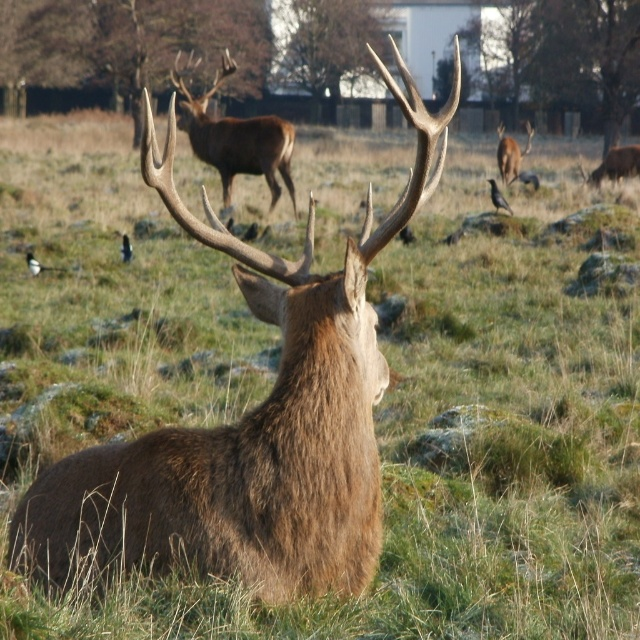Deer: (7, 32, 462, 610), (170, 48, 299, 220), (578, 143, 640, 190), (497, 120, 535, 186)
